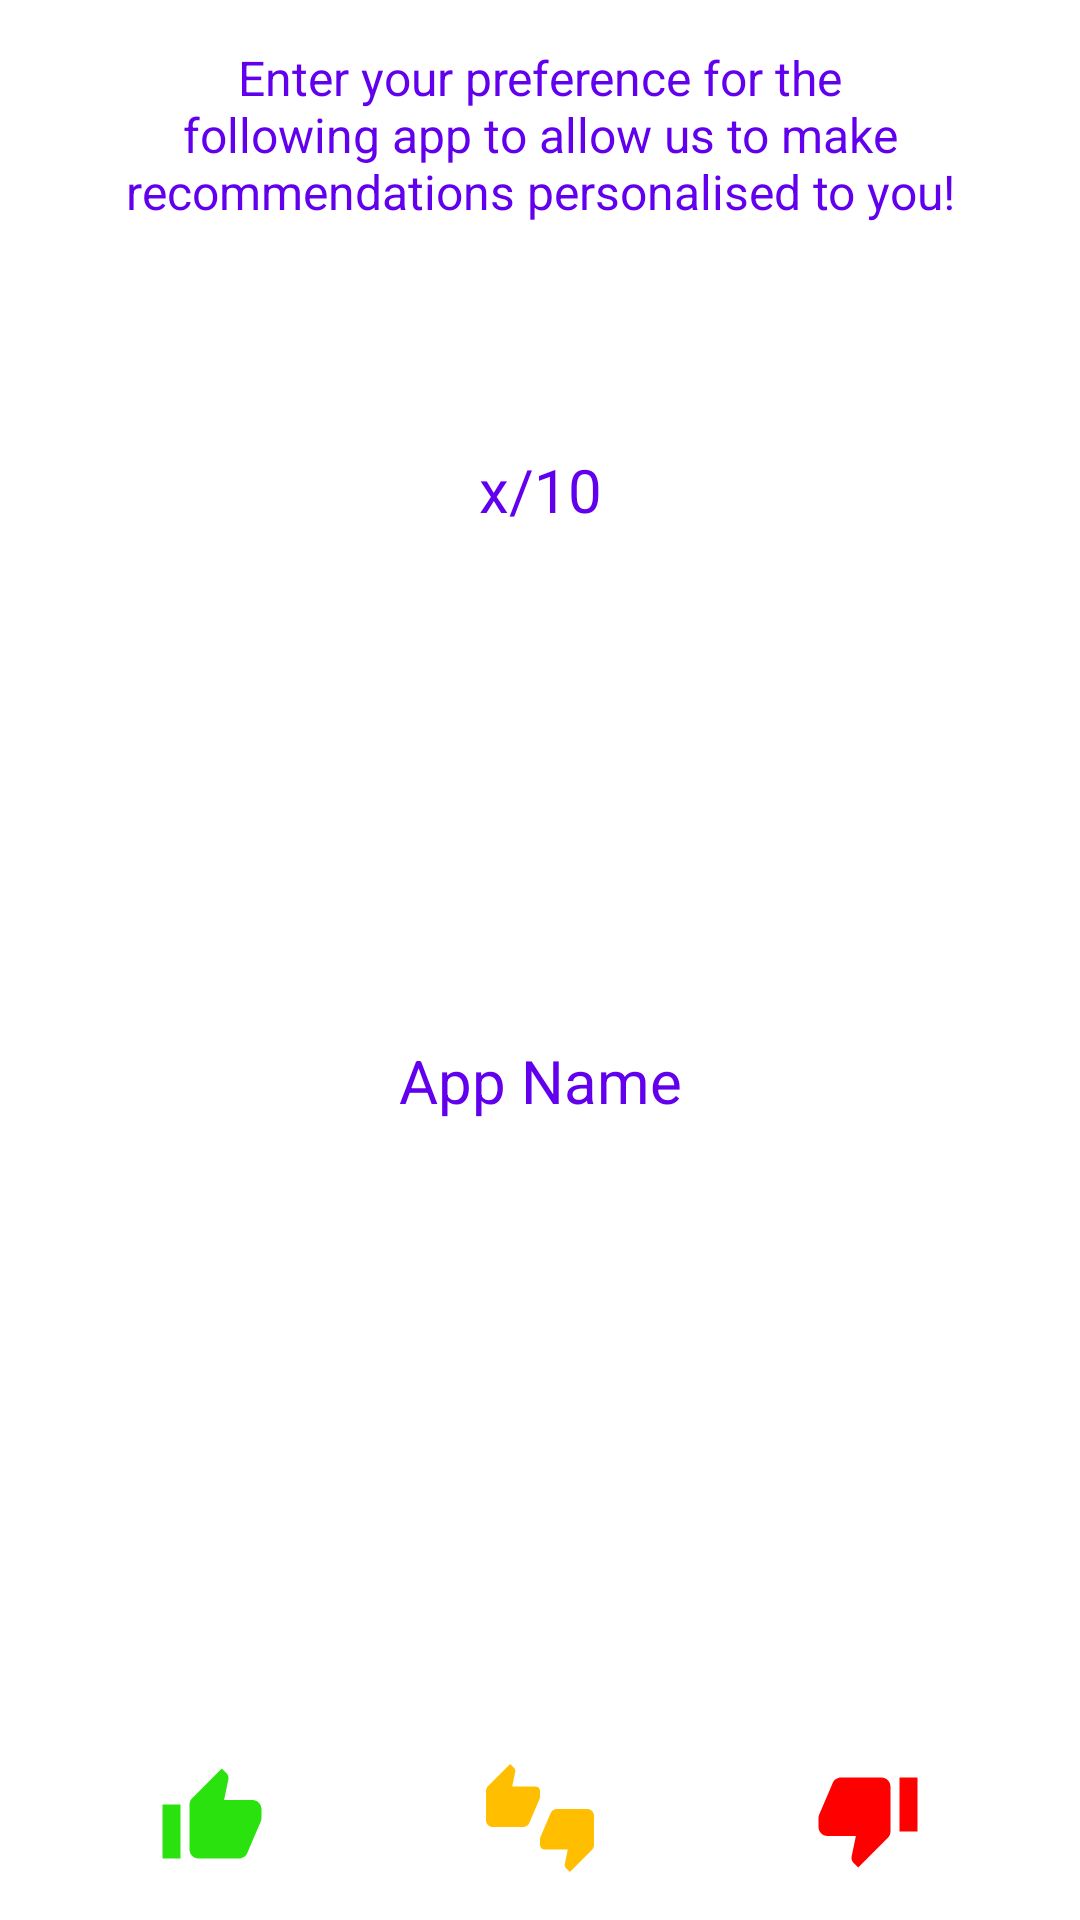

Screen size 1080w x 1920h. Icon name, then its box in pixels as (x1, y1, x2, y2):
Dislike Recommendation: (818, 1777, 918, 1868)
Like Recommendation: (162, 1768, 262, 1859)
thumbs up down: (486, 1764, 594, 1872)
